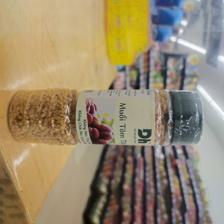TayNinh_green: (7, 87, 205, 147)
